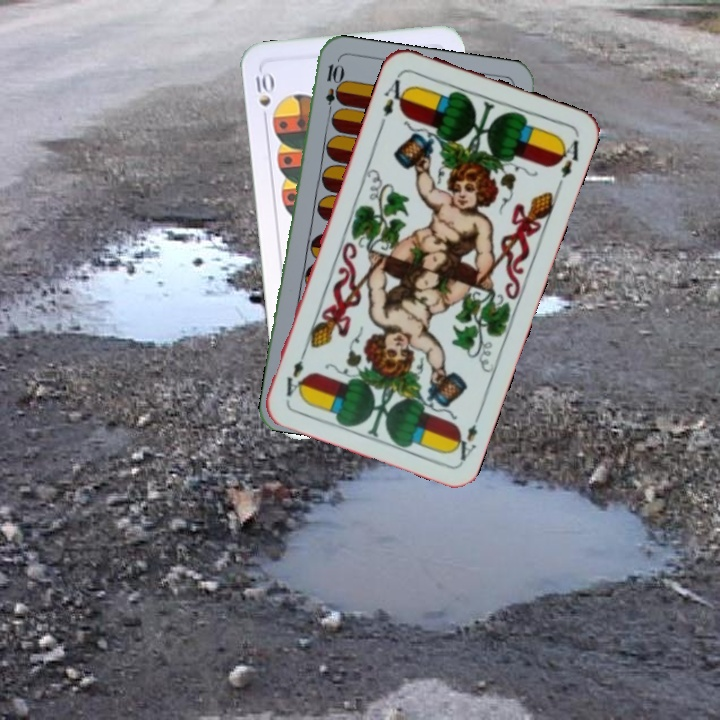E10: (321, 60, 343, 119)
EA: (448, 407, 484, 464), (376, 70, 411, 128)
S10: (252, 67, 275, 126)
